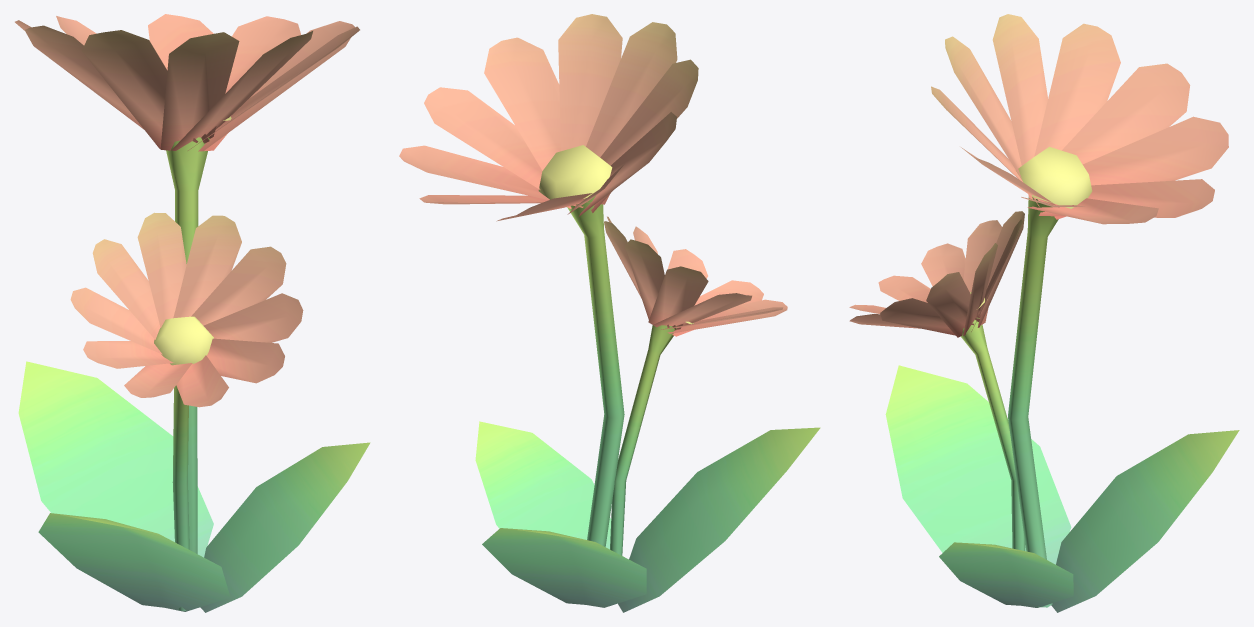
Rendered from Flower.010_Base_Material_0.fbx.
The picture shows the model from 3 angles, left to right: view 1: azimuth 30°, elevation 25°; view 2: azimuth 150°, elevation 25°; view 3: azimuth 270°, elevation 25°; orthographic projection. The views are drawn at different scales.
Parts seen in each view (by area): view 1: Flower.010_Base_Material_0_export; view 2: Flower.010_Base_Material_0_export; view 3: Flower.010_Base_Material_0_export.
Part boxes in pixels (bbox=[...]): Flower.010_Base_Material_0_export: bbox=[15, 14, 370, 612]; Flower.010_Base_Material_0_export: bbox=[399, 14, 820, 612]; Flower.010_Base_Material_0_export: bbox=[849, 14, 1239, 612].
Size of the model in its own units: 1.47 by 2.45 by 1.57.
